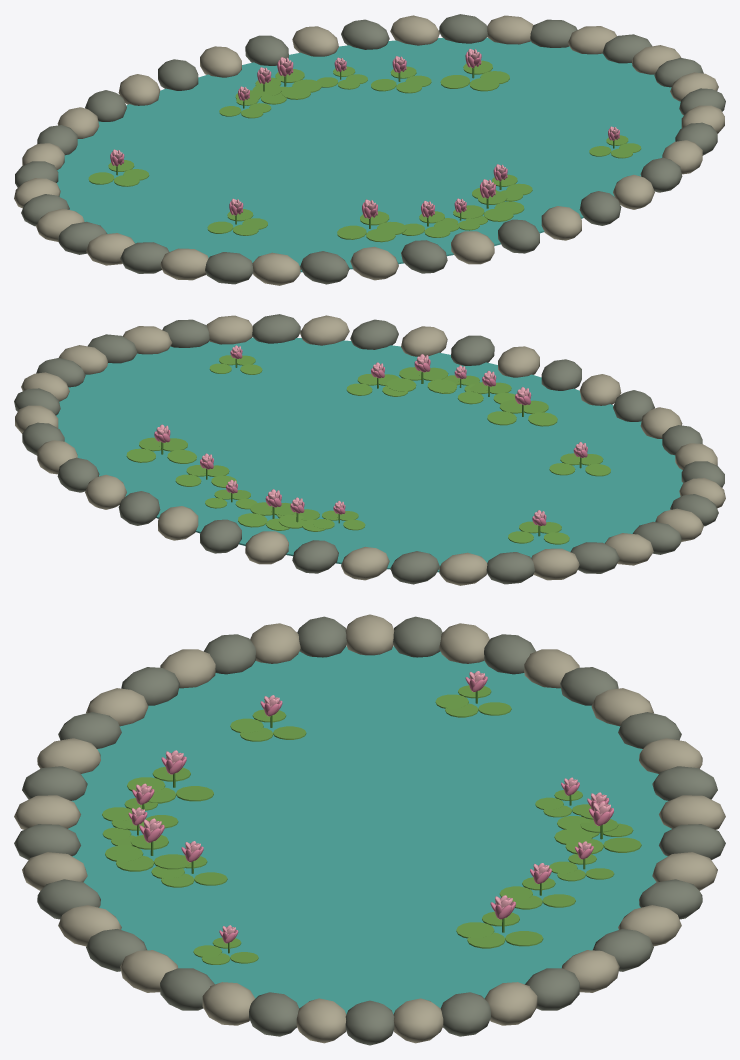
Rendered from LV_AO_SEN_01.glb.
The picture shows the model from 3 angles, top to bottom: view 1: azimuth 30°, elevation 25°; view 2: azimuth 150°, elevation 25°; view 3: azimuth 270°, elevation 25°; orthographic projection. The views are drawn at different scales.
Parts seen in each view (by area): view 1: LV_AO_SEN_01-surface-4faaa1, LV_AO_SEN_01-surface-a8a28c, LV_AO_SEN_01-surface-797e70, LV_AO_SEN_01-surface-70a34b, LV_AO_SEN_01-surface-d8839e, LV_AO_SEN_01-surface-e6a3b1; view 2: LV_AO_SEN_01-surface-4faaa1, LV_AO_SEN_01-surface-797e70, LV_AO_SEN_01-surface-a8a28c, LV_AO_SEN_01-surface-70a34b, LV_AO_SEN_01-surface-d8839e, LV_AO_SEN_01-surface-e6a3b1; view 3: LV_AO_SEN_01-surface-4faaa1, LV_AO_SEN_01-surface-a8a28c, LV_AO_SEN_01-surface-797e70, LV_AO_SEN_01-surface-70a34b, LV_AO_SEN_01-surface-d8839e, LV_AO_SEN_01-surface-e6a3b1.
Part boxes in pixels (bbox=[...]): LV_AO_SEN_01-surface-4faaa1: bbox=[57, 37, 683, 272]; LV_AO_SEN_01-surface-a8a28c: bbox=[14, 15, 724, 285]; LV_AO_SEN_01-surface-797e70: bbox=[15, 14, 725, 284]; LV_AO_SEN_01-surface-70a34b: bbox=[88, 60, 641, 242]; LV_AO_SEN_01-surface-d8839e: bbox=[110, 51, 619, 218]; LV_AO_SEN_01-surface-e6a3b1: bbox=[112, 48, 618, 211]; LV_AO_SEN_01-surface-4faaa1: bbox=[56, 337, 682, 572]; LV_AO_SEN_01-surface-797e70: bbox=[14, 314, 724, 584]; LV_AO_SEN_01-surface-a8a28c: bbox=[15, 315, 725, 585]; LV_AO_SEN_01-surface-70a34b: bbox=[126, 355, 610, 544]; LV_AO_SEN_01-surface-d8839e: bbox=[154, 349, 587, 525]; LV_AO_SEN_01-surface-e6a3b1: bbox=[156, 345, 585, 519]; LV_AO_SEN_01-surface-4faaa1: bbox=[68, 646, 671, 1014]; LV_AO_SEN_01-surface-a8a28c: bbox=[14, 614, 725, 1043]; LV_AO_SEN_01-surface-797e70: bbox=[14, 616, 725, 1045]; LV_AO_SEN_01-surface-70a34b: bbox=[102, 685, 641, 964]; LV_AO_SEN_01-surface-d8839e: bbox=[128, 673, 613, 943]; LV_AO_SEN_01-surface-e6a3b1: bbox=[131, 671, 610, 935].
Bounding box in the file's own units: 13.96 × 0.7465 × 10.13.
